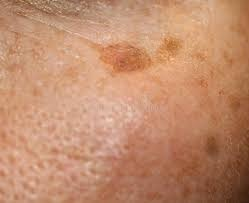Melasma: (66, 25, 249, 162), (3, 34, 69, 203)
